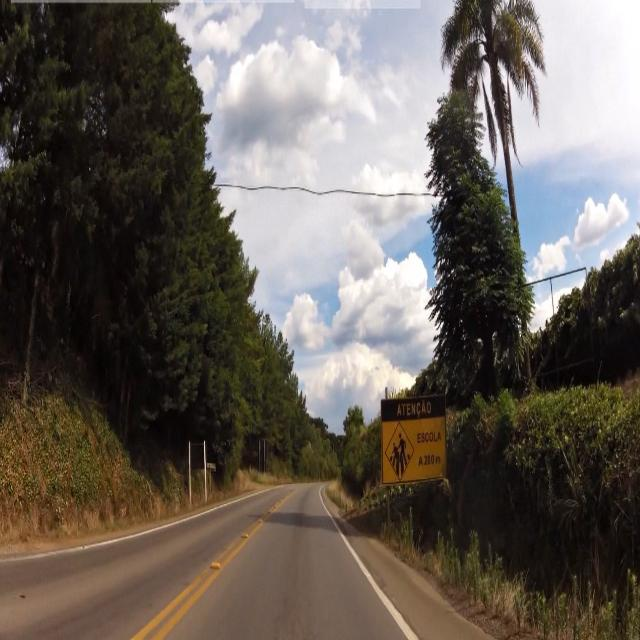A-33a: (386, 421, 414, 483)
